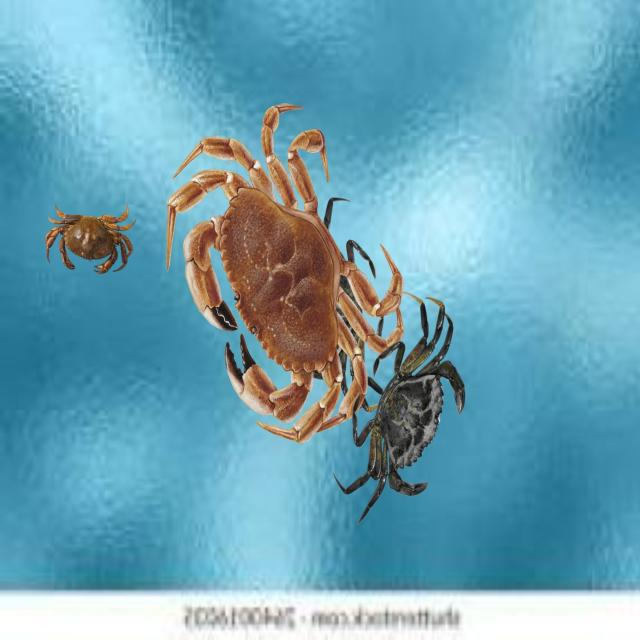European_Green_Crab: (315, 287, 494, 542)
